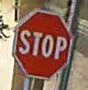stop: (12, 7, 72, 80)
